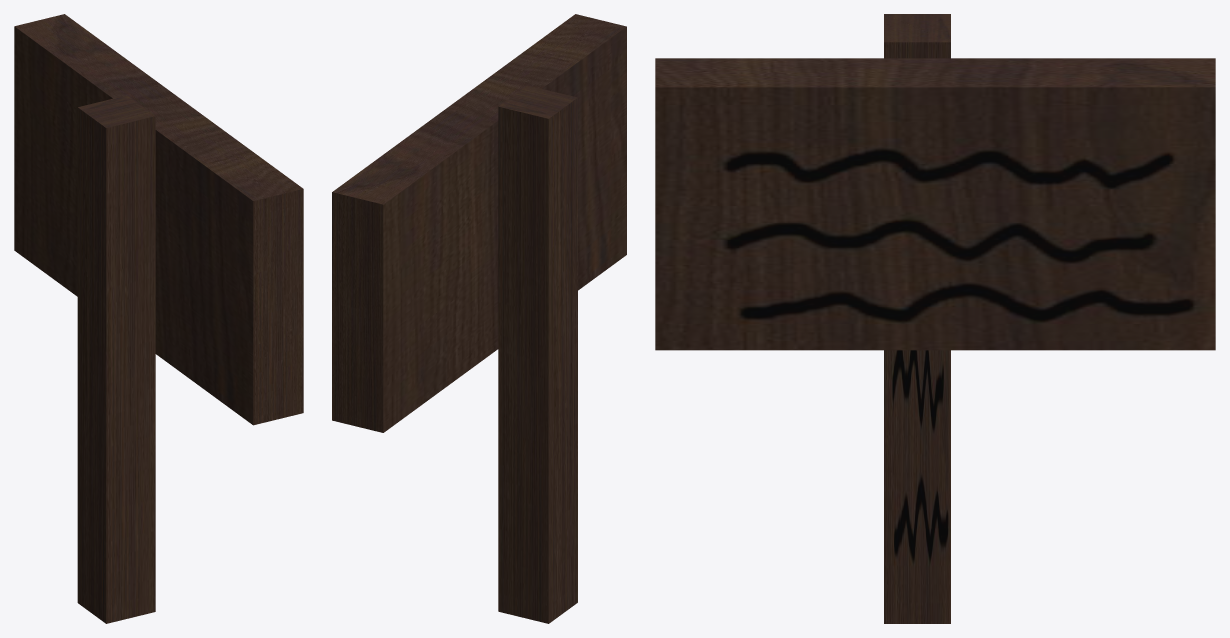
The model's file is sign .fbx.
3 views of the same model, side by side, from view 1: azimuth 30°, elevation 25°; view 2: azimuth 150°, elevation 25°; view 3: azimuth 270°, elevation 25° (orthographic). The views are drawn at different scales.
Parts seen in each view (by area): view 1: Cube, Cube.001; view 2: Cube, Cube.001; view 3: Cube, Cube.001.
Part boxes in pixels (x1=…): Cube: x1=14, y1=14, x2=303, y2=425; Cube.001: x1=77, y1=95, x2=155, y2=623; Cube: x1=332, y1=14, x2=626, y2=432; Cube.001: x1=498, y1=85, x2=577, y2=623; Cube: x1=655, y1=58, x2=1215, y2=350; Cube.001: x1=884, y1=14, x2=950, y2=623.
Size of the model in its own units: 93.17 by 442 by 386.
